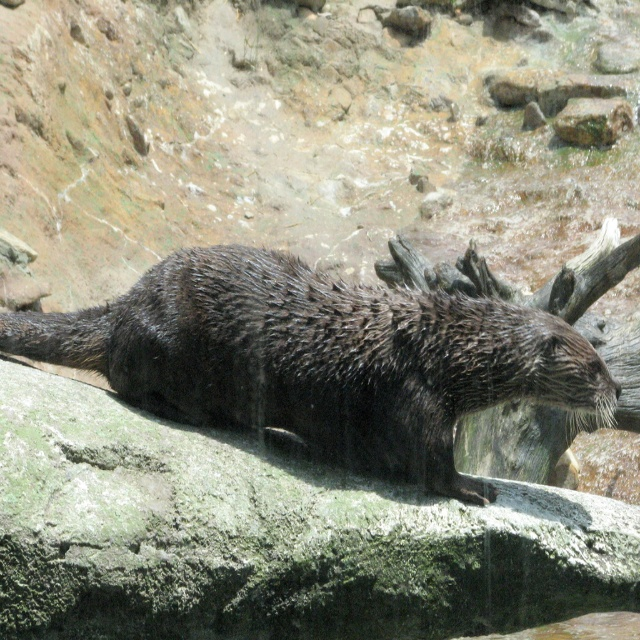Otter: (0, 203, 624, 508)
